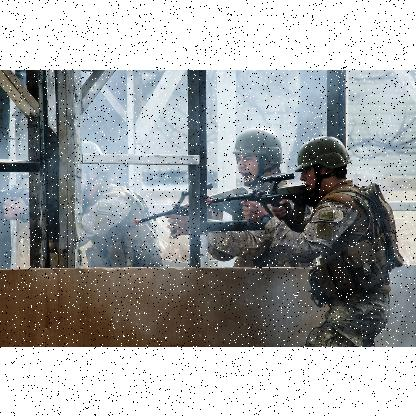gun: (133, 178, 251, 240), (209, 172, 315, 222)
